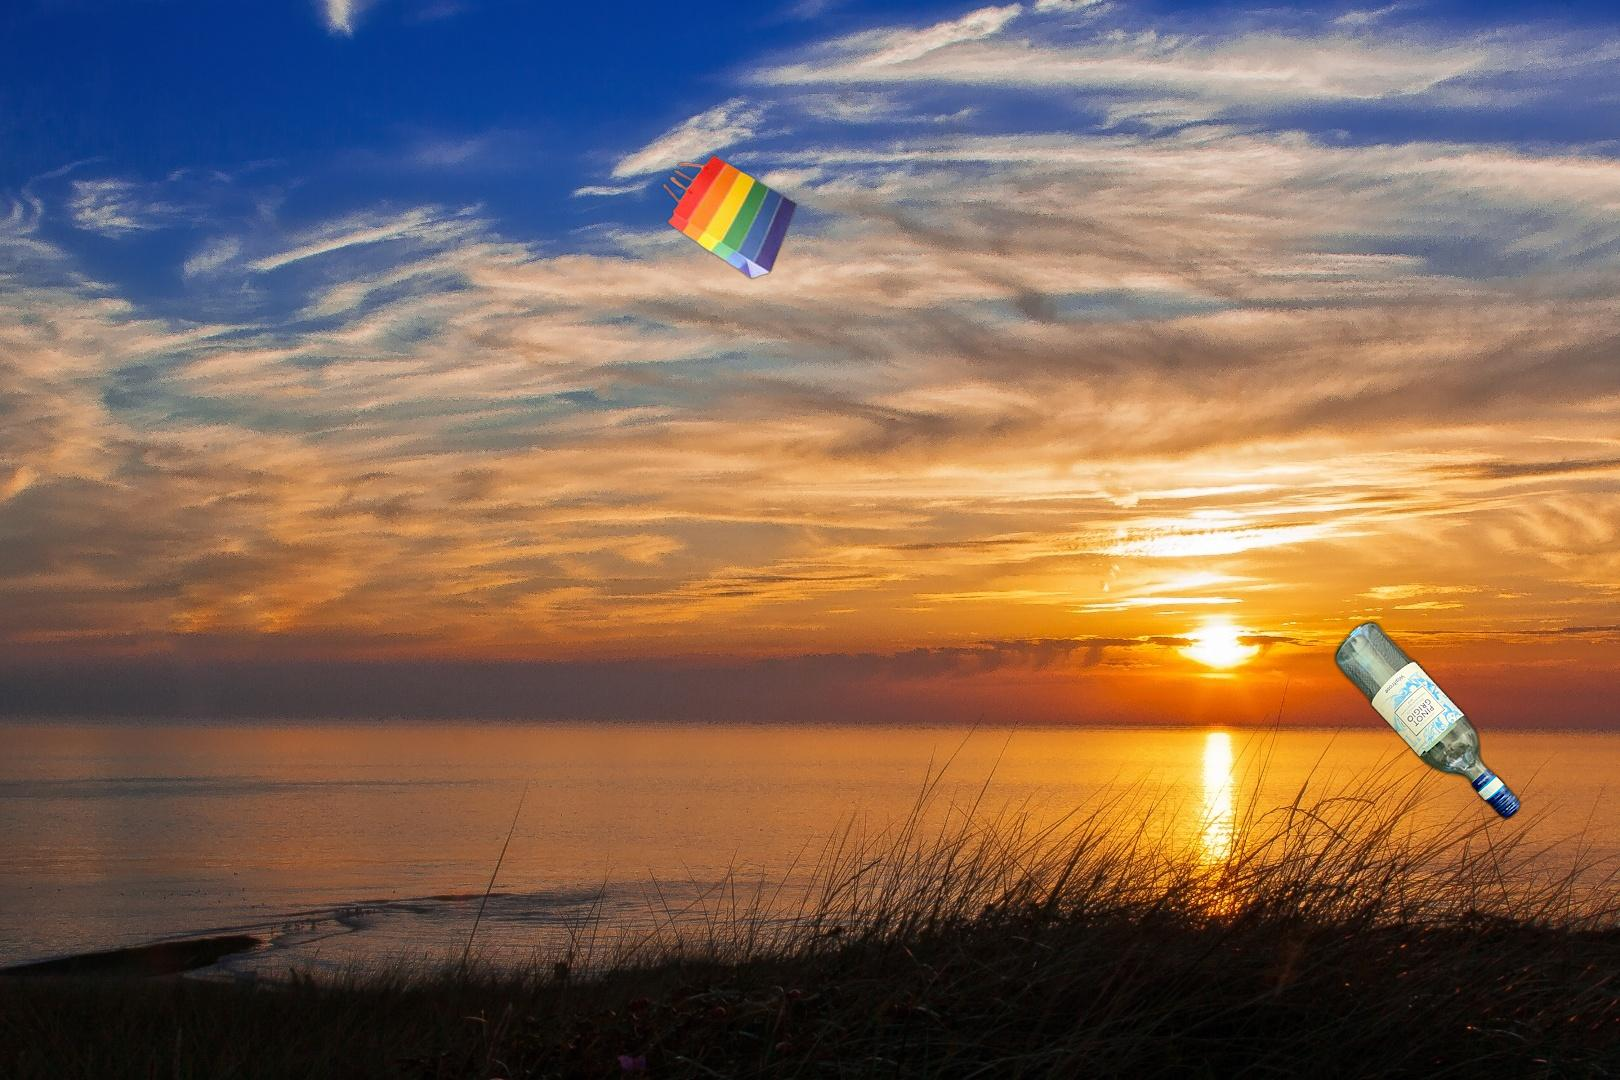glass: (1331, 615, 1525, 824)
paper-bag: (661, 152, 800, 281)
